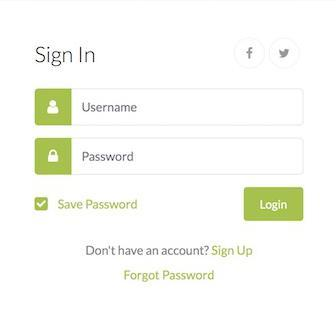button: (245, 188, 305, 223)
checkbox: (35, 197, 50, 212)
icon: (47, 100, 60, 115), (48, 150, 60, 164)
input: (71, 136, 305, 177), (71, 87, 306, 127)
label: (87, 244, 257, 259), (35, 46, 99, 69), (124, 270, 217, 284), (58, 198, 141, 212)
